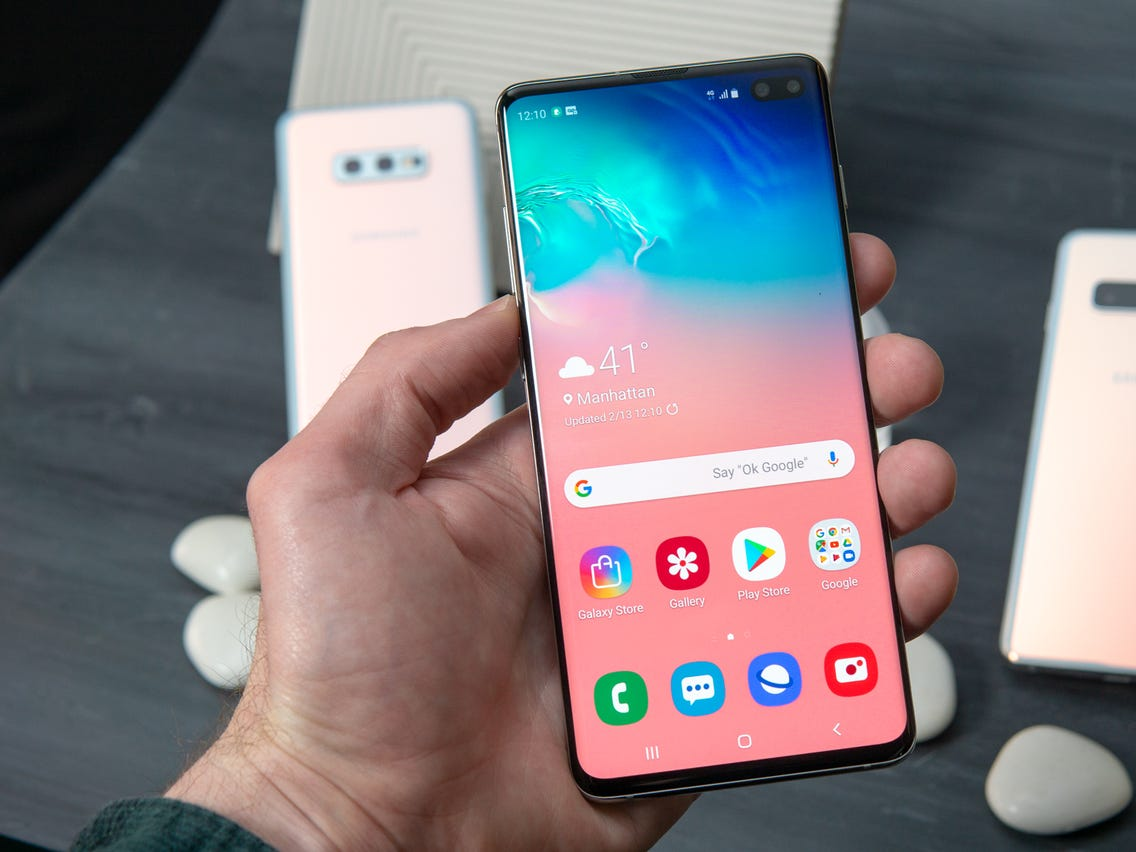Cell Phone: (496, 65, 934, 781)
